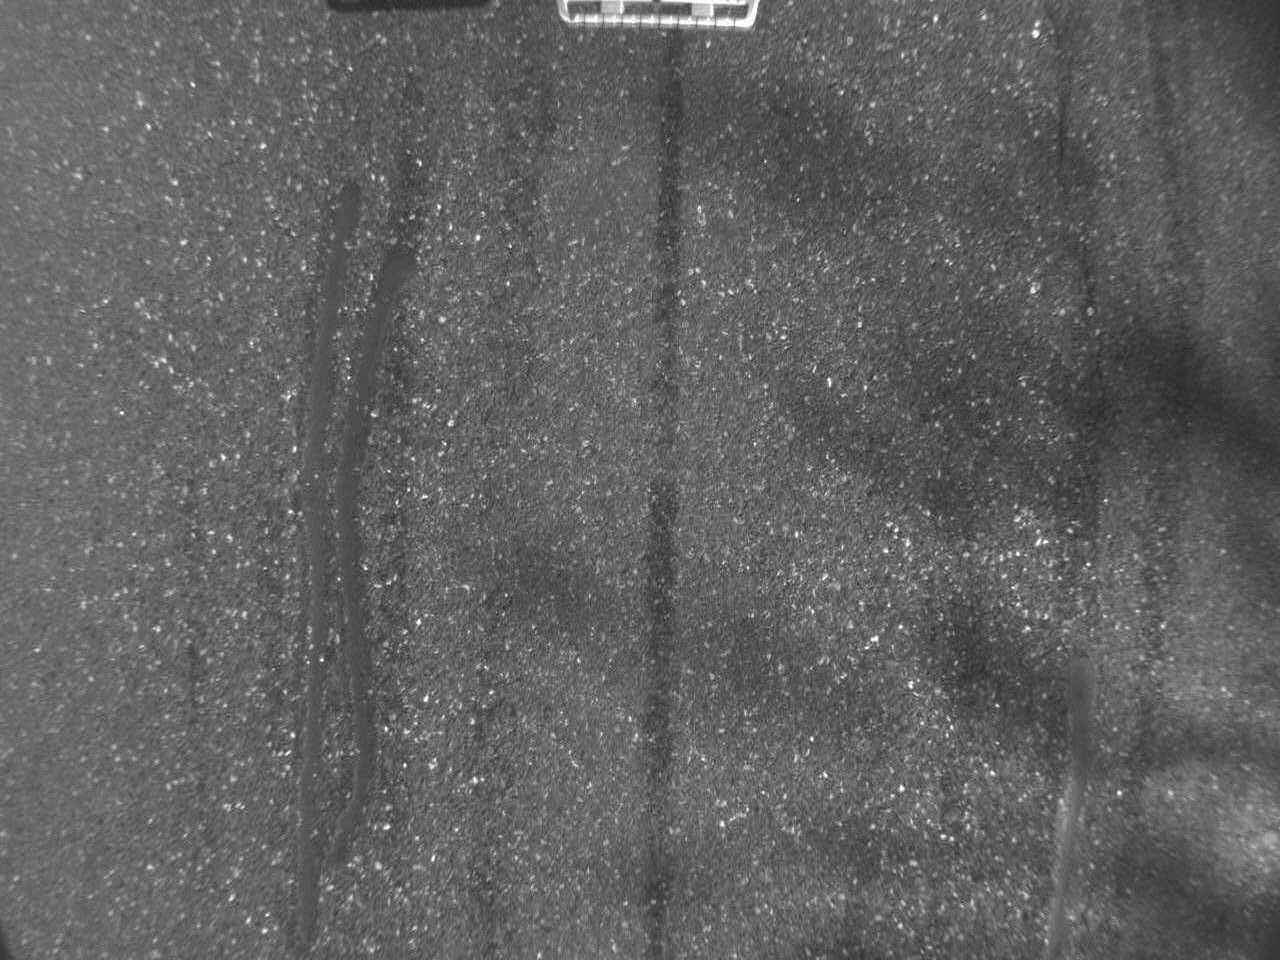sealed: (296, 186, 389, 928)
